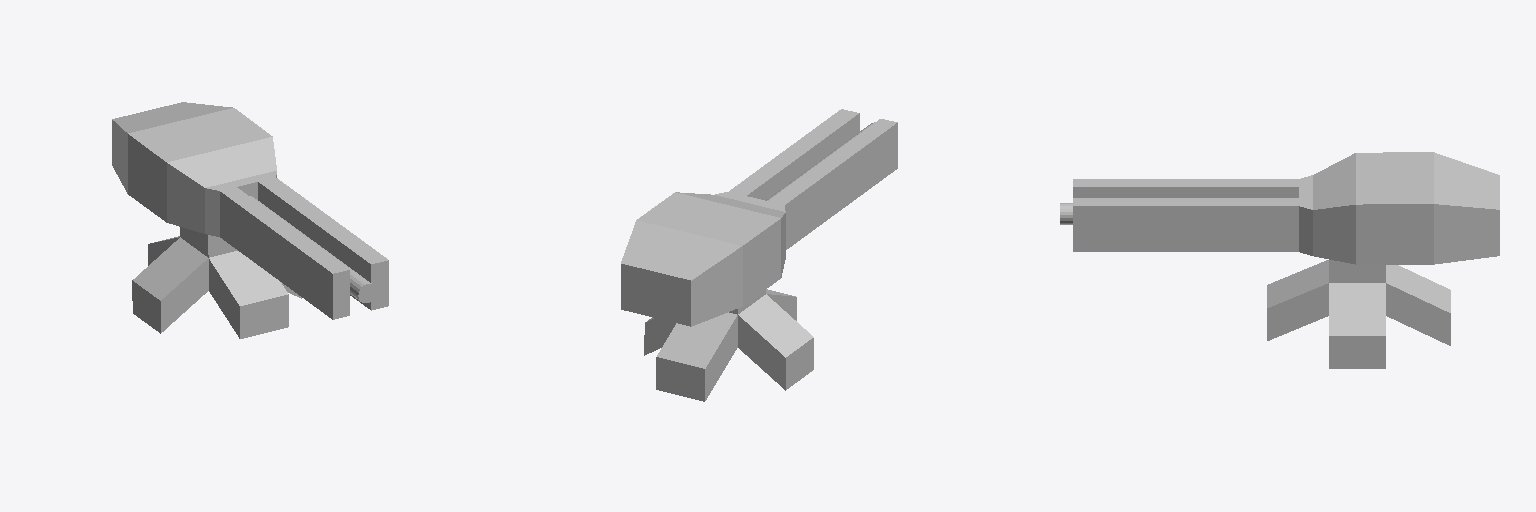
The model's file is Blockout_Railgun_MKIII.obj.
3 views of the same model, side by side, from view 1: azimuth 30°, elevation 25°; view 2: azimuth 150°, elevation 25°; view 3: azimuth 270°, elevation 25° (orthographic).
Visible parts, largest first — view 1: Turret_Weapon, Turret_Platform; view 2: Turret_Weapon, Turret_Platform; view 3: Turret_Weapon, Turret_Platform.
Boxes of the visible parts, x1,y1,x2,y2 form: Turret_Weapon: [112, 102, 388, 319]; Turret_Platform: [132, 227, 301, 338]; Turret_Weapon: [621, 109, 897, 326]; Turret_Platform: [644, 289, 813, 401]; Turret_Weapon: [1060, 152, 1499, 264]; Turret_Platform: [1267, 260, 1450, 368].
Bounding box in the file's own units: 3.07 × 3.27 × 8.3.